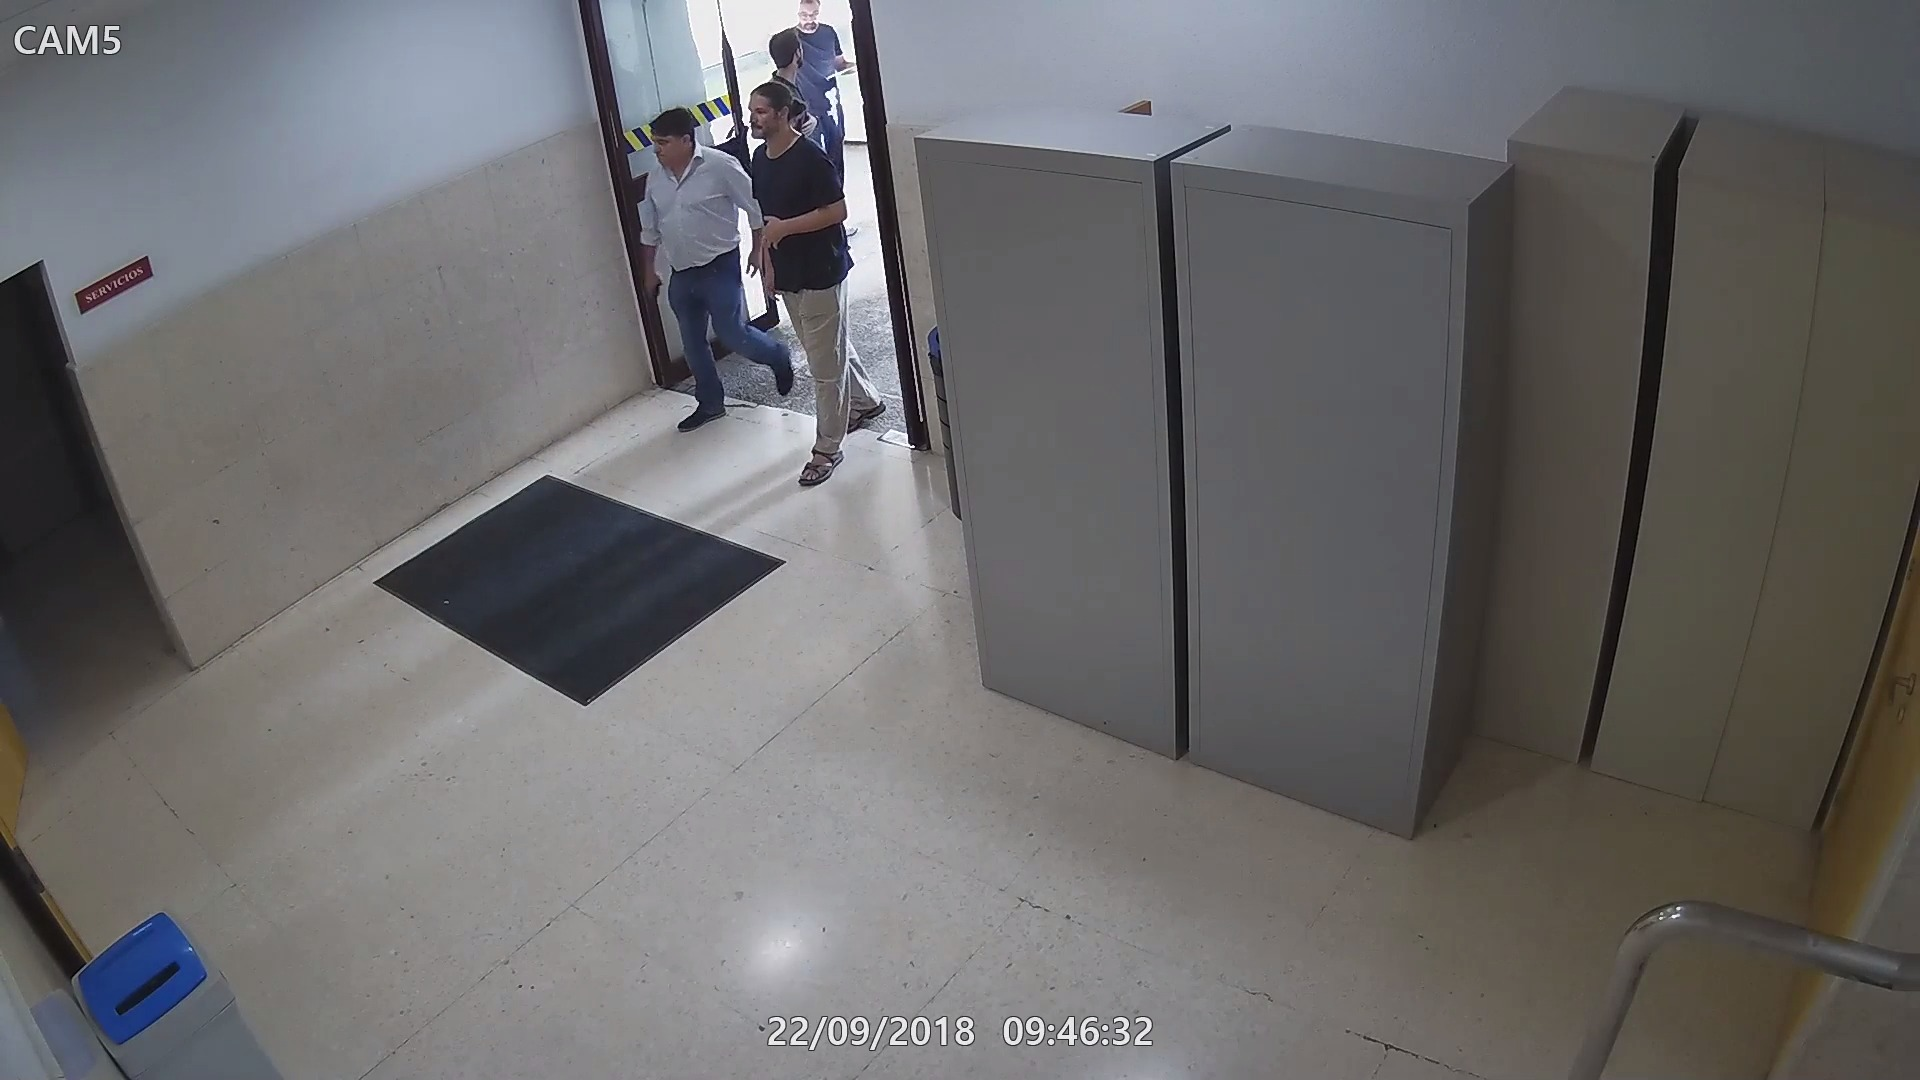Handgun: (644, 270, 669, 306)
